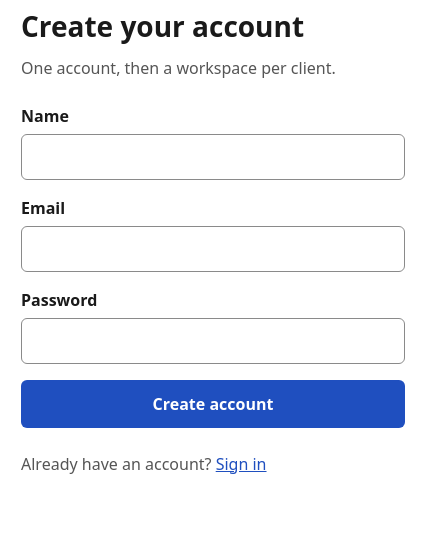
Scenario: signup screen: error envelopes keyed by code › validation_failed with fieldErrors details renders each message under its field
Step 1. Type "Ada Operator" into the field labelled "Name" → (213, 157), box [21, 134, 405, 180]
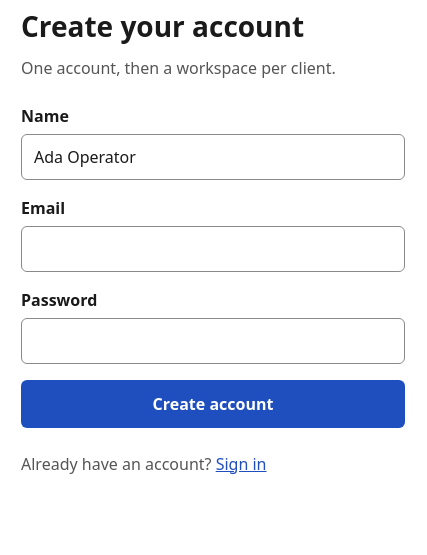
Step 2. Type "operator@agency.test" into the field labelled "Email" → (213, 249), box [21, 226, 405, 272]
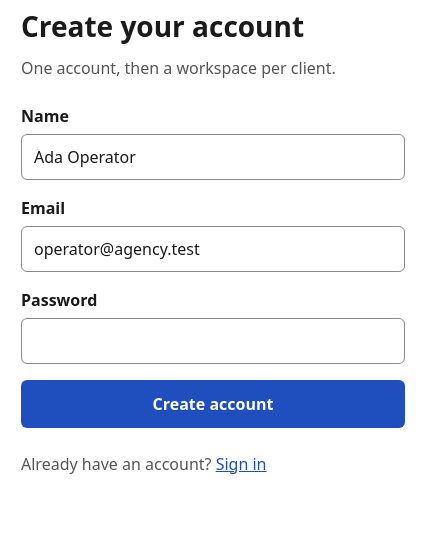
Step 3. Type "correct horse battery" into the password field labelled "Password" → (213, 341), box [21, 318, 405, 364]
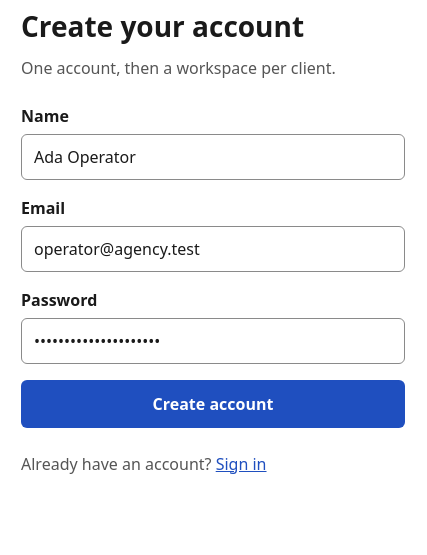
Step 4. Click the button "Create account" → (213, 404), box [21, 380, 405, 428]
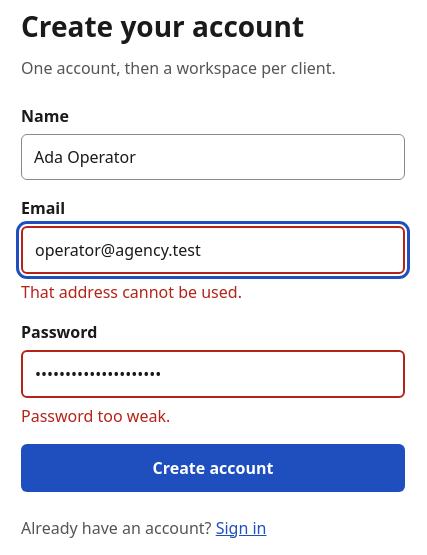
Result: the text "That address cannot be used." is shown at [21, 281, 242, 303]
Result: the text "Password too weak." is shown at [21, 405, 170, 427]
